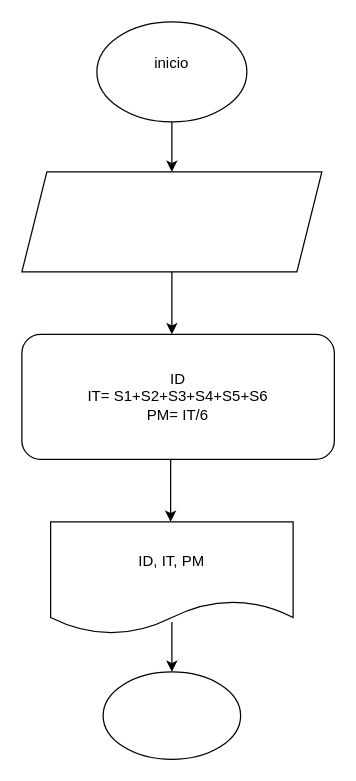
Some shapes in this 356 by 781 pixel diagram are drawn without their labels. Each missing label, with the centre of its shape:
"FIN" belongs at (x=171, y=715).
"ID, S1, S2, S3, S4, S5, S6" belongs at (x=171, y=221).
